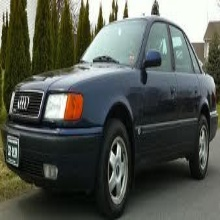no damage: (4, 18, 219, 214)
